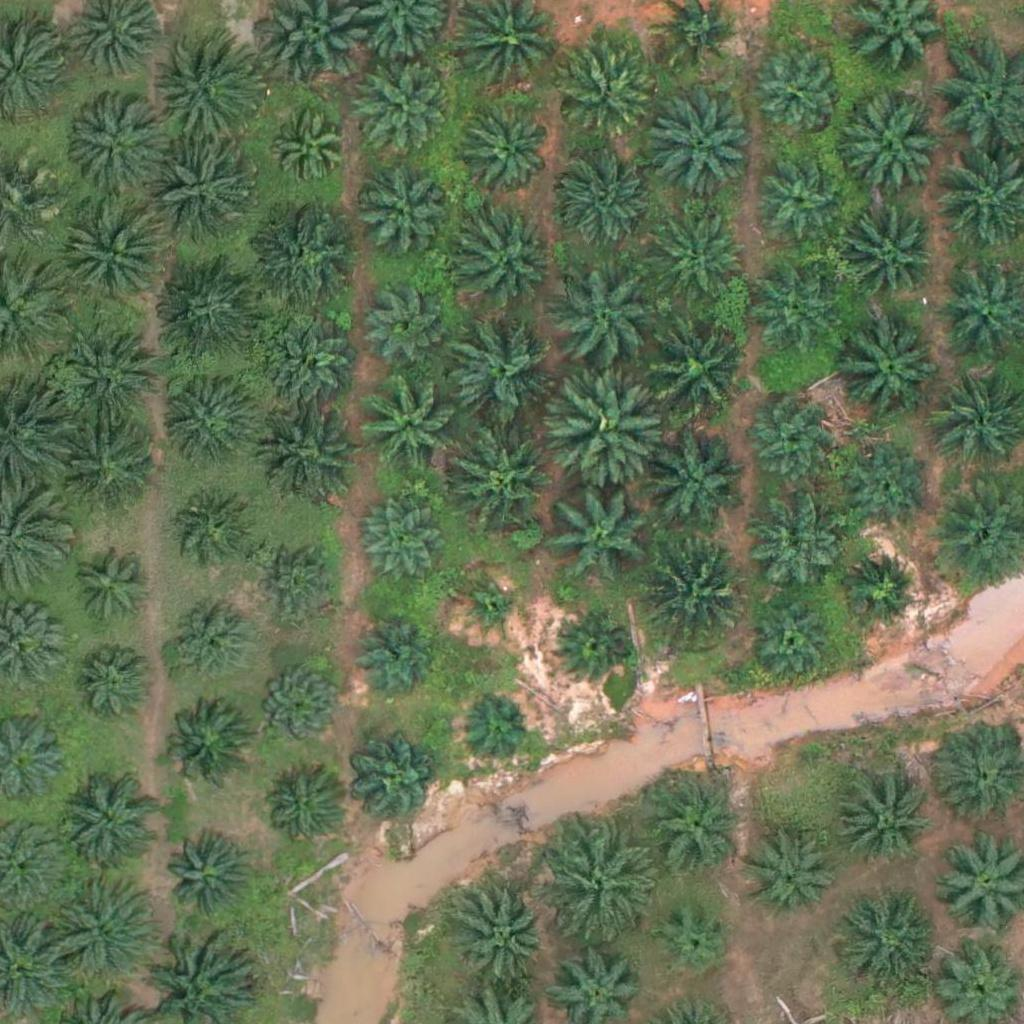Kelapa_Sawit: (450, 204, 563, 318), (542, 829, 655, 943), (245, 200, 358, 313), (556, 370, 669, 483), (830, 305, 943, 418), (555, 264, 667, 378), (152, 31, 264, 144), (149, 139, 261, 252), (157, 252, 269, 365), (449, 314, 561, 427), (448, 416, 560, 529), (551, 479, 663, 592), (644, 85, 756, 198), (644, 310, 756, 423), (642, 531, 754, 644), (832, 88, 944, 201), (43, 871, 155, 984), (68, 210, 168, 311), (63, 326, 163, 427), (61, 418, 161, 519), (159, 369, 259, 470), (351, 60, 451, 161), (360, 373, 460, 474), (559, 36, 659, 137), (651, 199, 751, 300), (644, 433, 744, 534), (647, 777, 747, 878), (742, 500, 842, 601), (835, 200, 935, 301), (833, 769, 933, 870), (834, 890, 934, 991), (64, 100, 164, 200), (60, 774, 160, 874), (261, 396, 361, 496), (560, 150, 660, 250), (455, 886, 555, 986), (65, 641, 153, 730), (171, 495, 259, 583), (358, 160, 446, 248), (366, 281, 454, 369), (358, 501, 446, 589), (355, 740, 443, 828), (838, 545, 926, 633), (750, 153, 838, 241), (748, 832, 836, 920), (260, 767, 347, 855), (255, 660, 342, 748), (255, 539, 342, 627), (62, 548, 149, 636), (165, 599, 252, 687), (161, 699, 248, 787), (266, 106, 353, 194), (267, 323, 354, 411), (353, 607, 440, 695), (467, 113, 554, 201), (748, 44, 835, 132), (753, 271, 840, 359), (749, 396, 836, 484), (751, 600, 838, 688), (844, 441, 931, 529), (166, 836, 253, 924), (553, 608, 628, 684), (656, 902, 731, 978), (459, 691, 534, 766), (460, 580, 523, 643)
